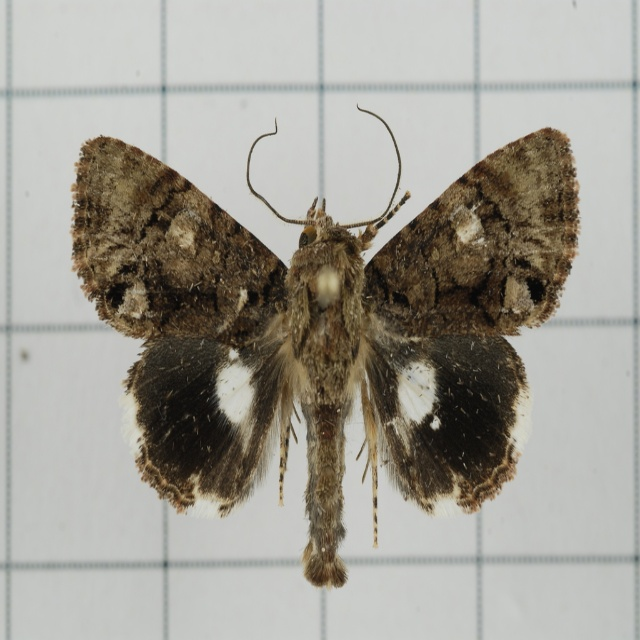Butterfly: (72, 97, 586, 588)
